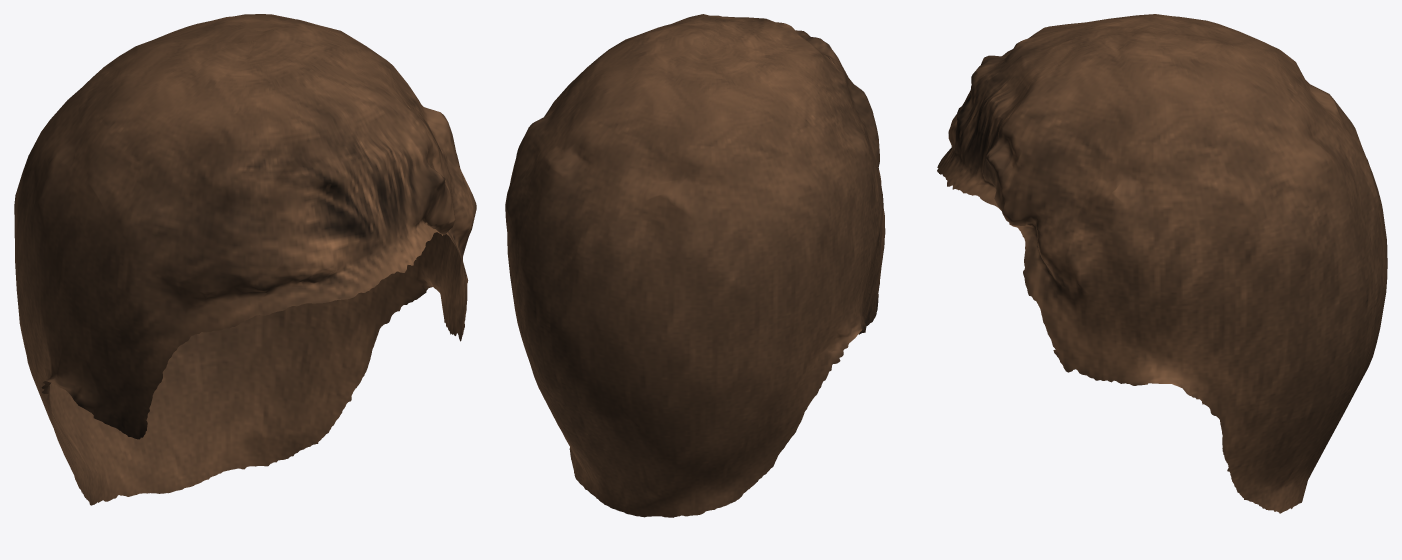
Rendered from haircut.fbx.
3 views of the same model, side by side, from view 1: azimuth 30°, elevation 25°; view 2: azimuth 150°, elevation 25°; view 3: azimuth 270°, elevation 25° (orthographic). The views are drawn at different scales.
Visible parts, largest first — view 1: Head; view 2: Head; view 3: Head.
Boxes of the visible parts, x1=… form: Head: x1=14, y1=14, x2=476, y2=505; Head: x1=505, y1=14, x2=885, y2=517; Head: x1=937, y1=14, x2=1387, y2=513.
Size of the model in its own units: 0.176 by 0.2289 by 0.195.
Materials: 1 (1 with a texture image).
